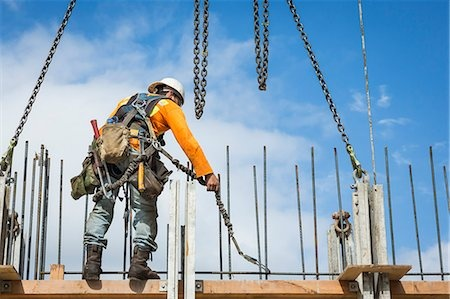white: (152, 77, 186, 108)
